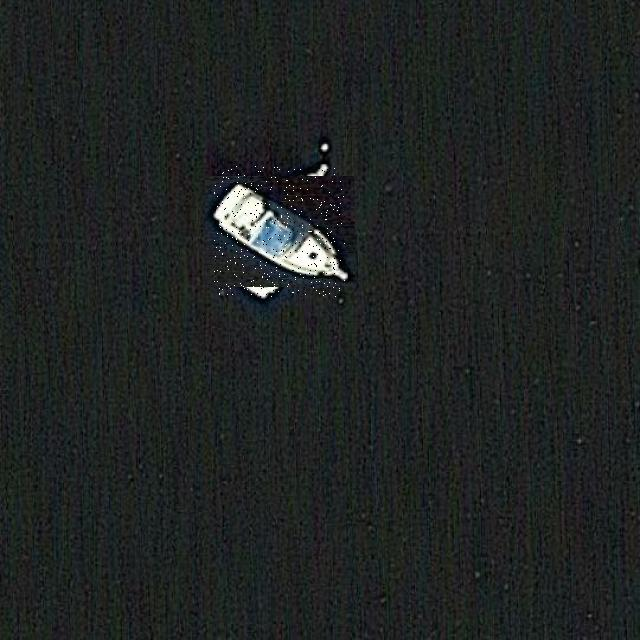boat: (214, 166, 345, 297)
